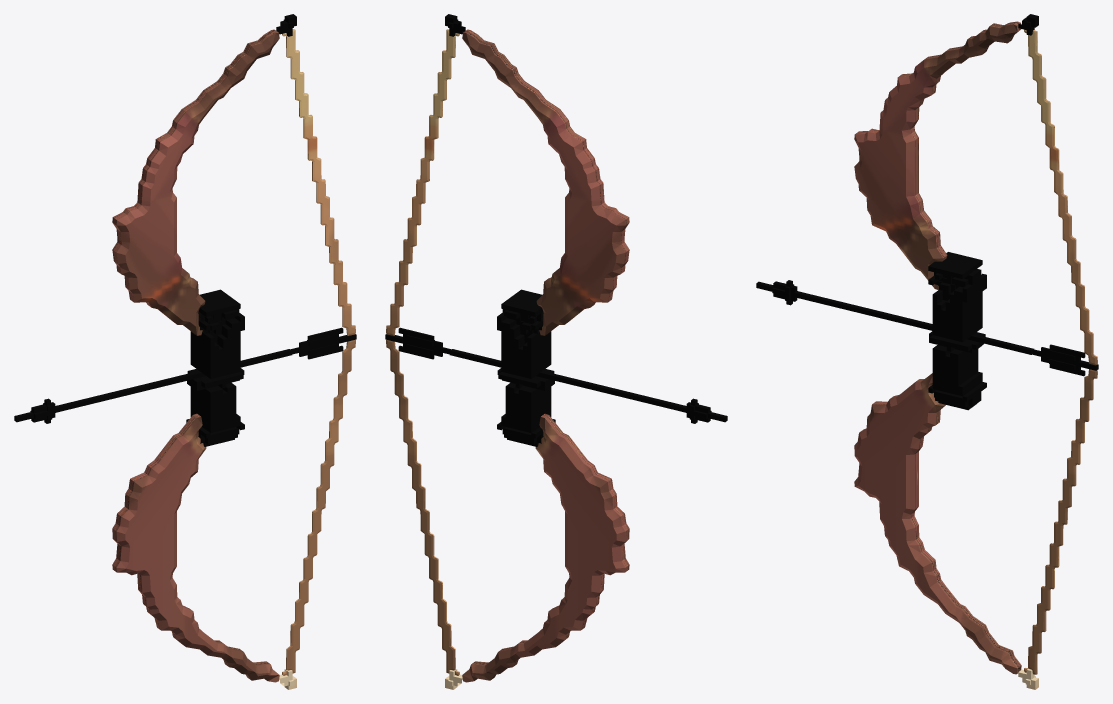
Rendered from ember_bow_pulling_1.obj.
3 views of the same model, side by side, from view 1: azimuth 30°, elevation 25°; view 2: azimuth 150°, elevation 25°; view 3: azimuth 330°, elevation 25° (orthographic).
Parts seen in each view (by area): view 1: ember_bow_pulling_1; view 2: ember_bow_pulling_1; view 3: ember_bow_pulling_1.
Part boxes in pixels (<box>): ember_bow_pulling_1: <box>14,14,356,689</box>; ember_bow_pulling_1: <box>385,14,727,689</box>; ember_bow_pulling_1: <box>756,14,1098,689</box>.
Bounding box in the file's own units: 0.8229 × 1.55 × 0.0833.
